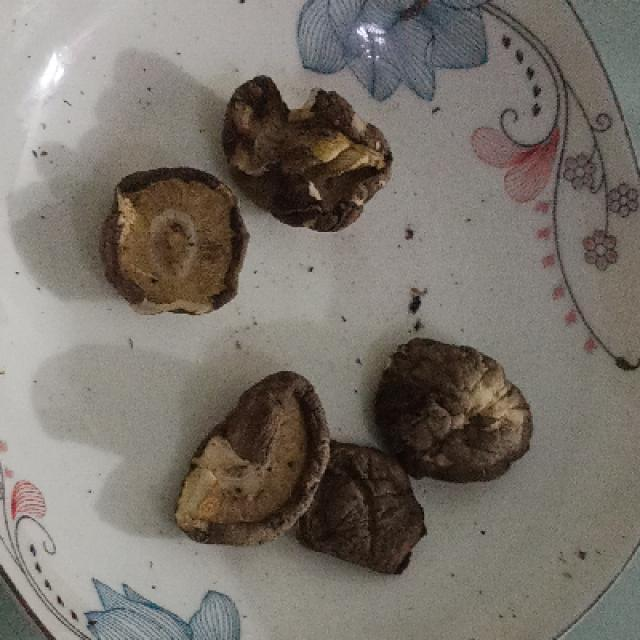Lentinus edodes: (170, 374, 331, 549), (229, 74, 393, 226), (374, 336, 534, 478), (102, 166, 252, 313), (295, 444, 428, 569)
